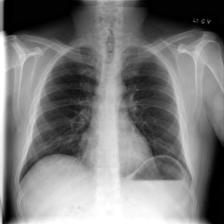normal: (15, 44, 200, 190)
